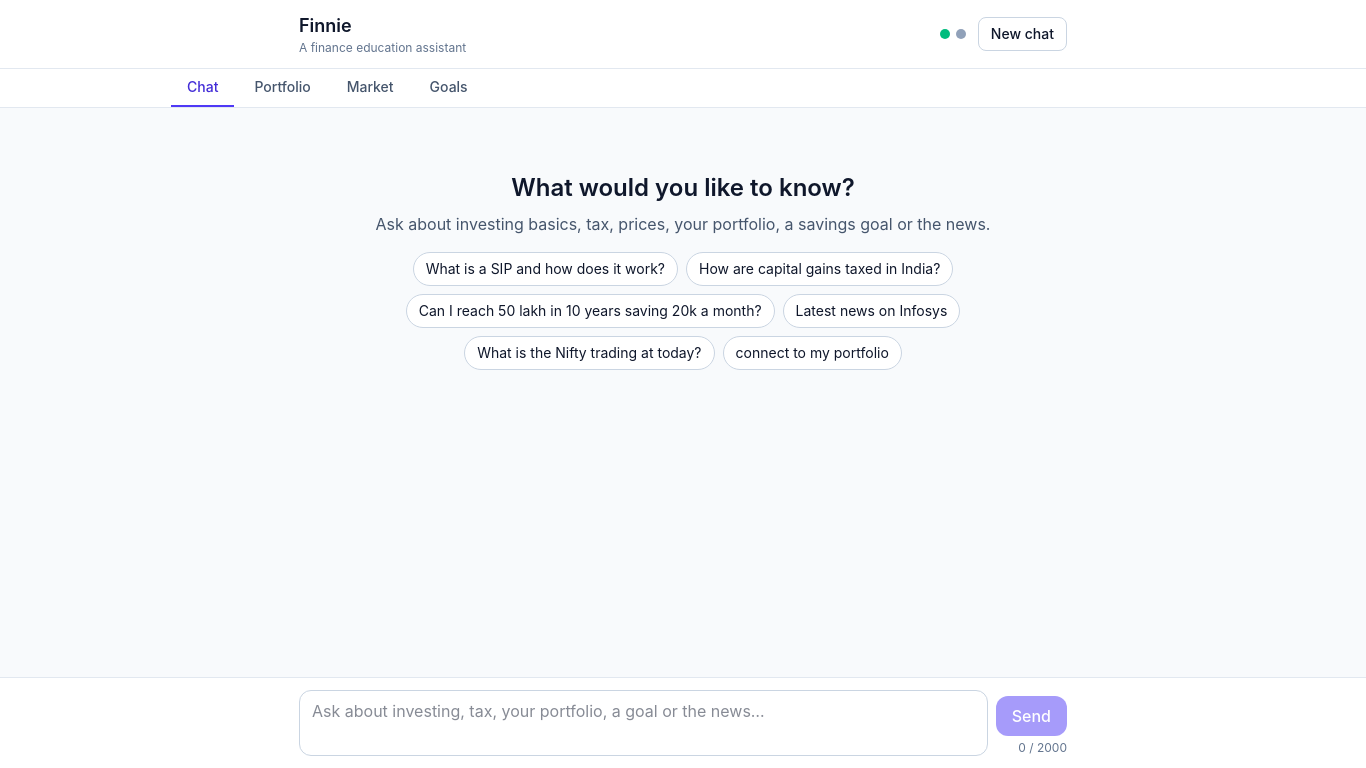
Scenario: App › shows that it is thinking, and blocks the box meanwhile
The width and height of the screenshot is (1366, 768).
Later steps or results of the test are not shown.
In the text box: coordinates (643, 723) x1=299 y1=690 x2=988 y2=756, type "hi"
Then press Enter
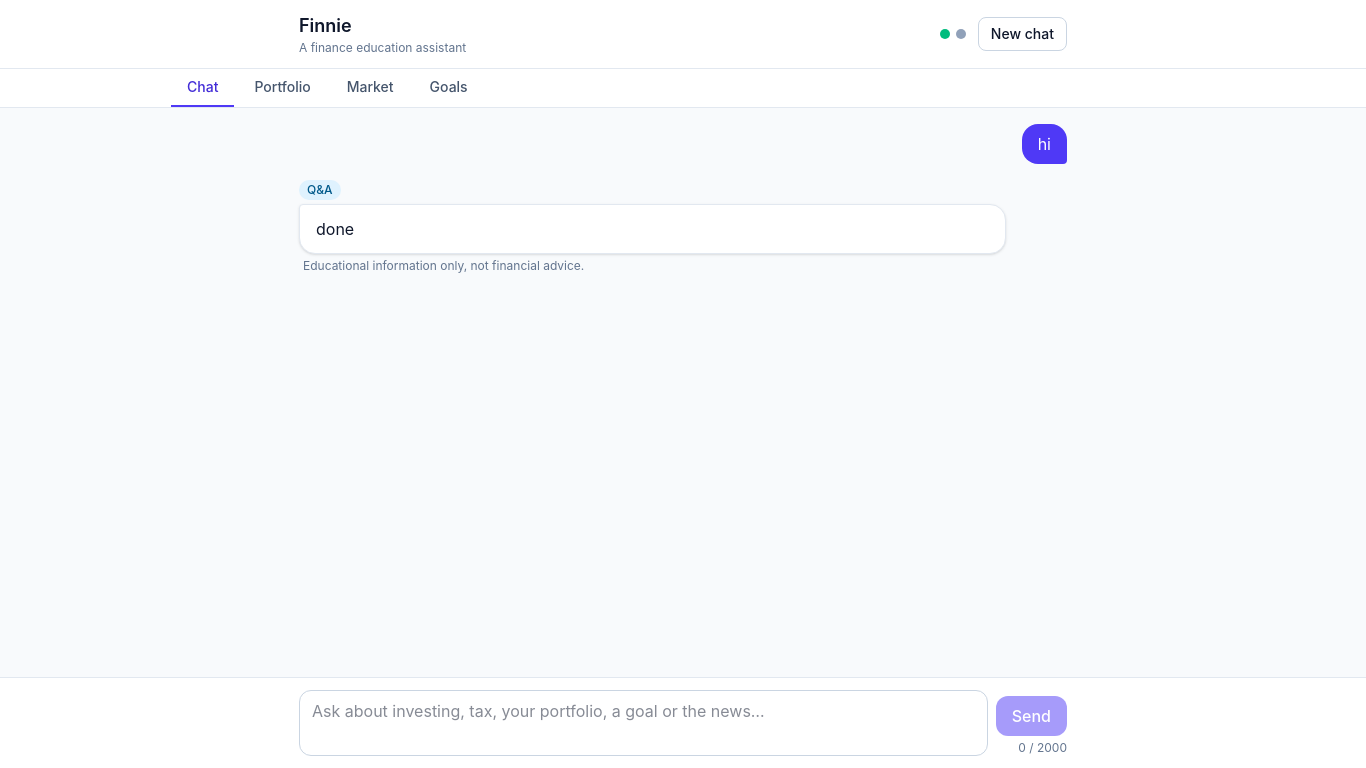
Check: the text "done" is shown, box x1=316 y1=219 x2=354 y2=239
